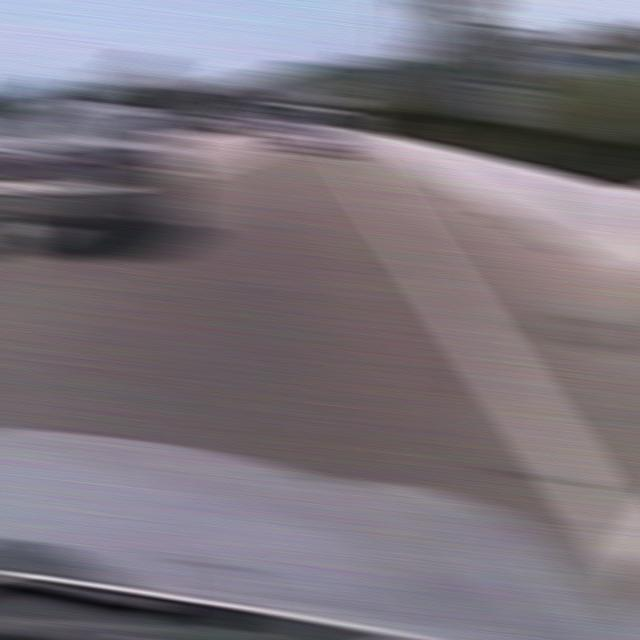speedLimit65: (471, 21, 539, 96)
